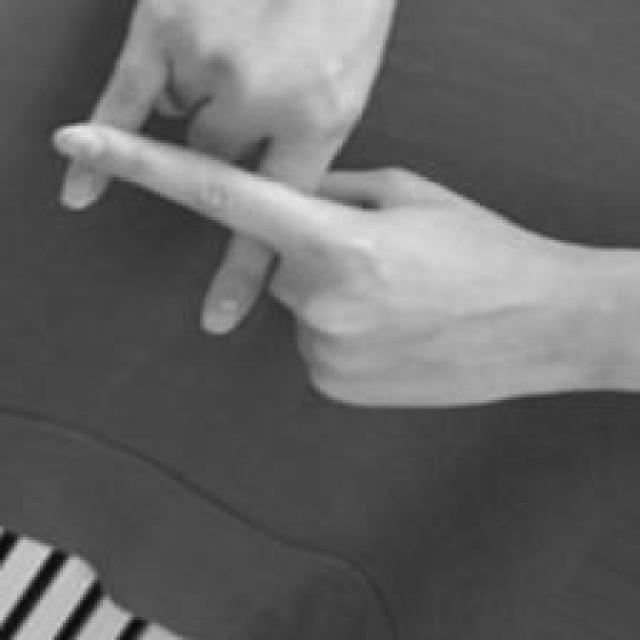H: (49, 0, 591, 411)
